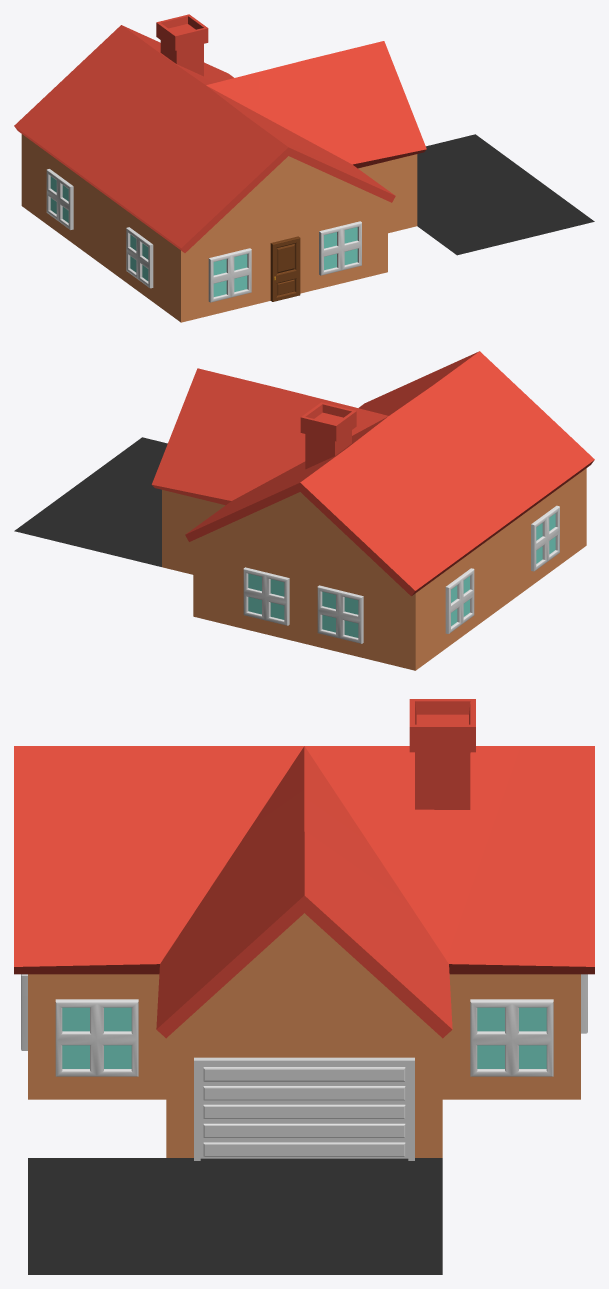
File: home2.fbx
3 renders of one model, top to bottom at view 1: azimuth 30°, elevation 25°; view 2: azimuth 150°, elevation 25°; view 3: azimuth 270°, elevation 25°, orthographic. The views are drawn at different scales.
Visible parts, largest first — view 1: home2; view 2: home2; view 3: home2.
Boxes of the visible parts, x1=… form: home2: x1=14, y1=14, x2=594, y2=322; home2: x1=14, y1=351, x2=594, y2=670; home2: x1=14, y1=699, x2=594, y2=1274.
Size of the model in its own units: 606 by 250 by 420.
